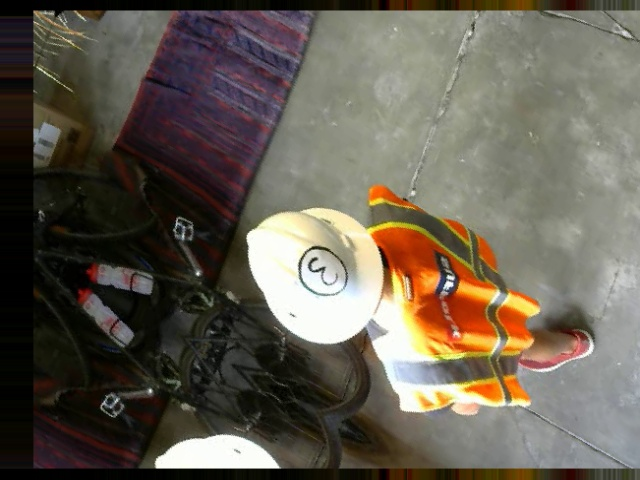three: (289, 237, 354, 307)
